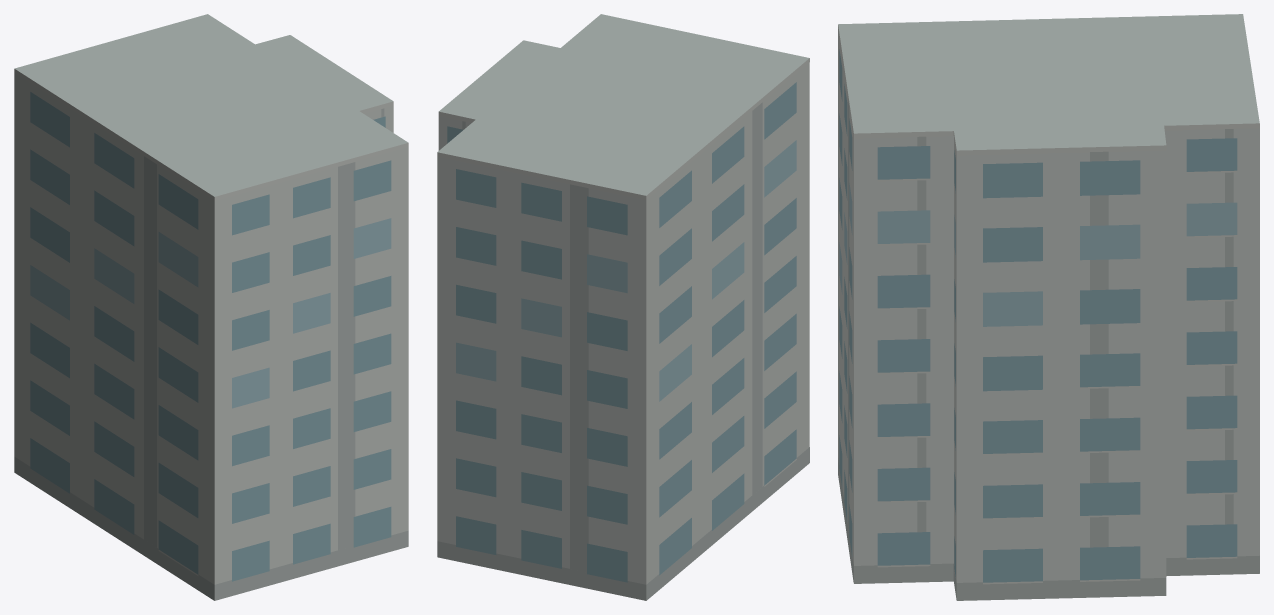
Rendered from survey-upis-32890793.glb.
3 renders of one model, left to right at view 1: azimuth 30°, elevation 25°; view 2: azimuth 150°, elevation 25°; view 3: azimuth 270°, elevation 25°, orthographic. The views are drawn at different scales.
Visible parts, largest first — view 1: survey-upis-32890793.tmp; view 2: survey-upis-32890793.tmp; view 3: survey-upis-32890793.tmp.
Part boxes in pixels (x1=…): survey-upis-32890793.tmp: x1=14, y1=14, x2=408, y2=600; survey-upis-32890793.tmp: x1=437, y1=14, x2=809, y2=600; survey-upis-32890793.tmp: x1=838, y1=14, x2=1259, y2=600.
Size of the model in its own units: 14.7 by 22.6 by 19.19.
